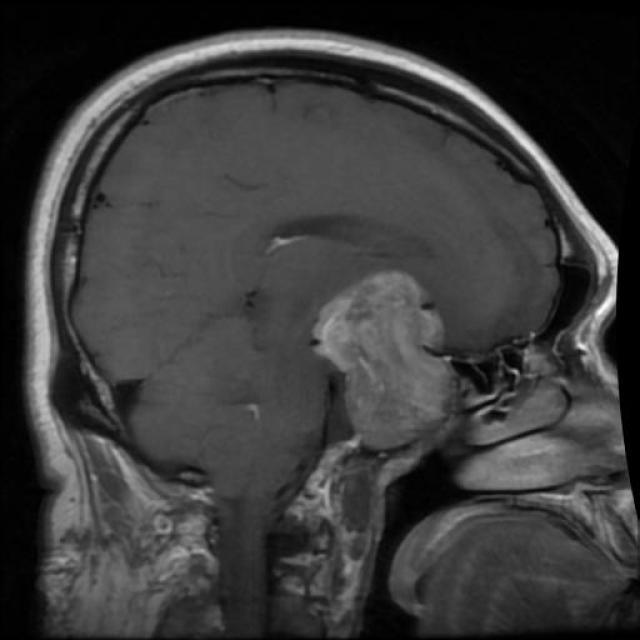pituitary: (312, 264, 462, 452)
